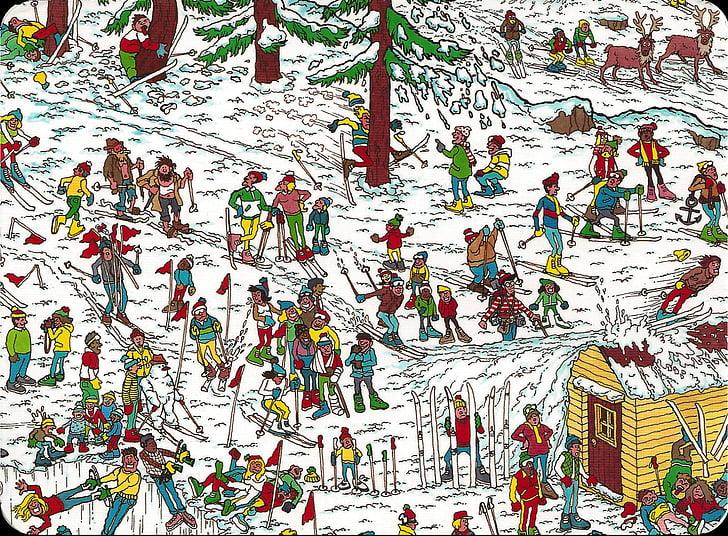waldos: (479, 268, 550, 342)
